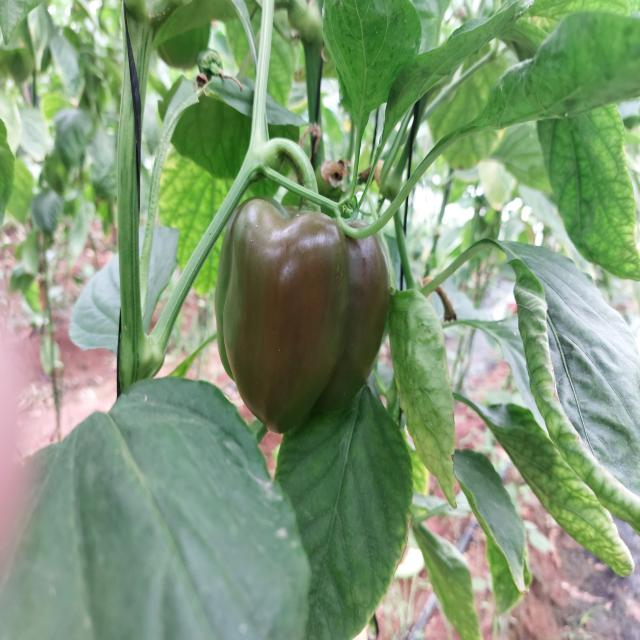BrownishRed--Can-be-Harvested: (223, 198, 392, 434)
